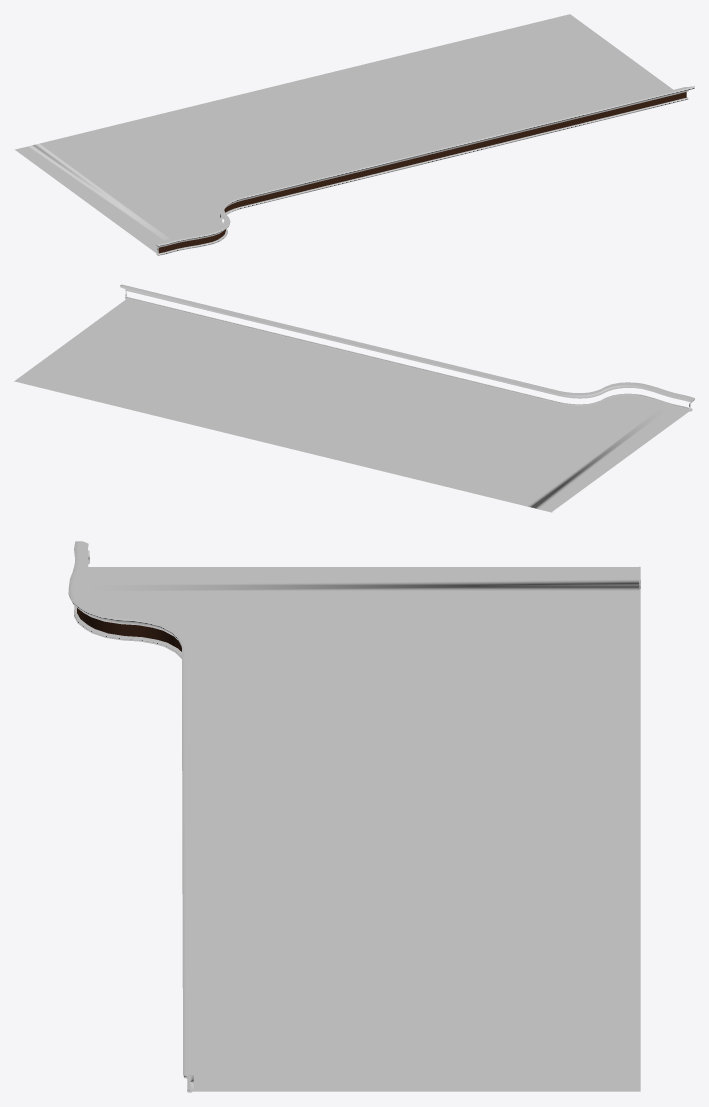
Rendered from 2nd floor.fbx.
3 renders of one model, top to bottom at view 1: azimuth 30°, elevation 25°; view 2: azimuth 150°, elevation 25°; view 3: azimuth 270°, elevation 25°, orthographic. The views are drawn at different scales.
Visible parts, largest first — view 1: Cube.004, Cube.044; view 2: Cube.004; view 3: Cube.004, Cube.044.
Boxes of the visible parts, bbox=[...] form: Cube.004: bbox=[14, 14, 694, 255]; Cube.044: bbox=[158, 92, 686, 253]; Cube.004: bbox=[14, 284, 694, 512]; Cube.004: bbox=[68, 541, 640, 1092]; Cube.044: bbox=[77, 608, 181, 651].
Bounding box in the file's own units: 24610 × 500 × 11143.
